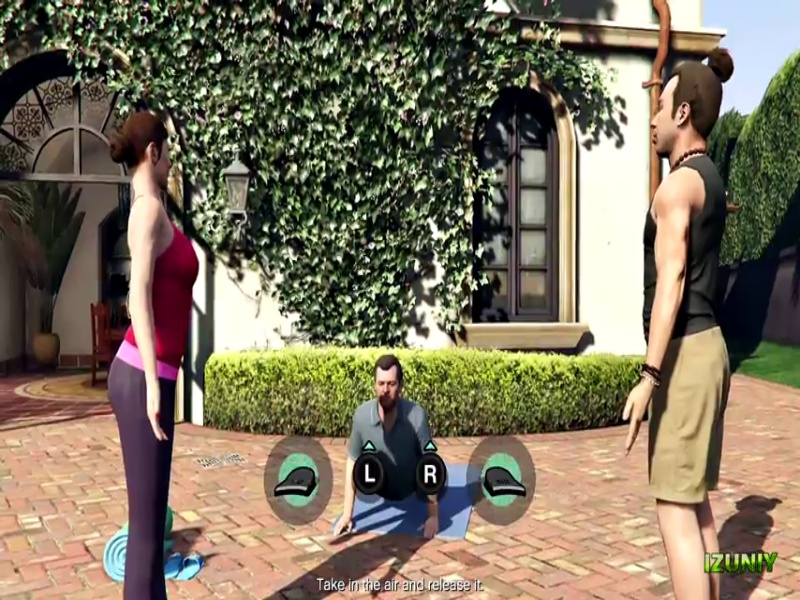human: (347, 352, 447, 542)
